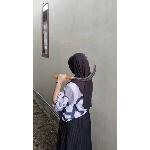Celurit: (53, 62, 100, 82)
